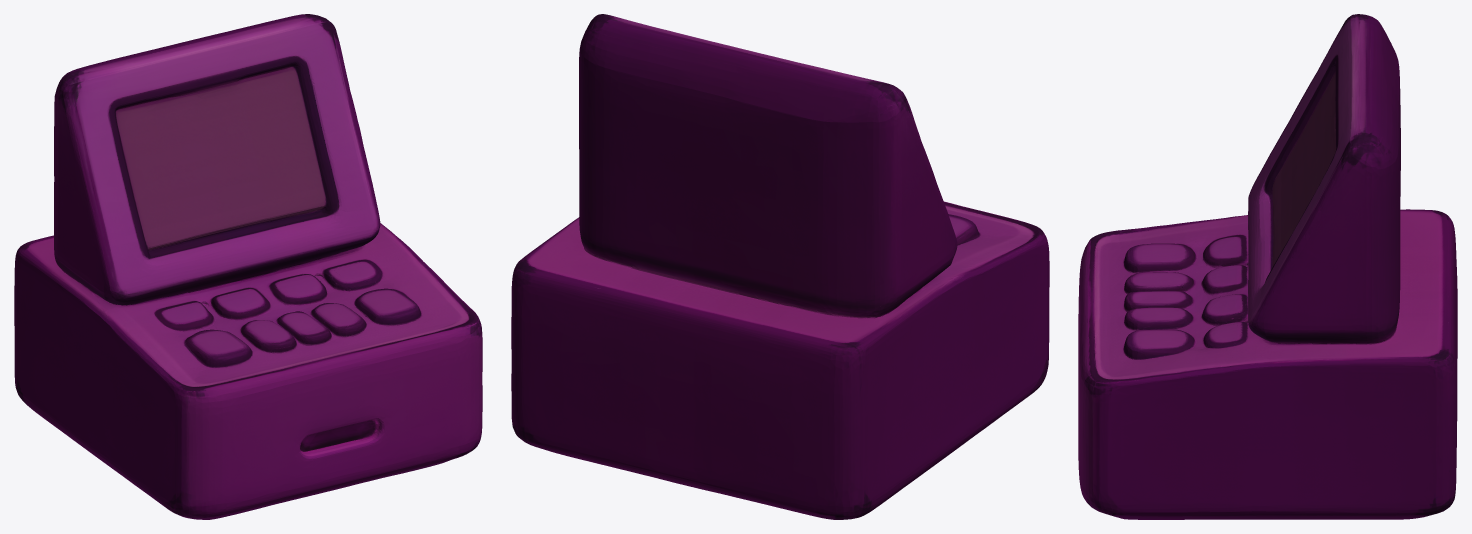
3 renders of one model, left to right at view 1: azimuth 30°, elevation 25°; view 2: azimuth 150°, elevation 25°; view 3: azimuth 270°, elevation 25°, orthographic. The views are drawn at different scales.
Visible parts, largest first — view 1: world; view 2: world; view 3: world.
Part boxes in pixels (<box>): world: <box>14,14,482,519</box>; world: <box>511,14,1049,519</box>; world: <box>1078,14,1457,519</box>.
Size of the model in its own units: 87.92 by 100 by 91.7.
Materials: 1 (1 with a texture image).
